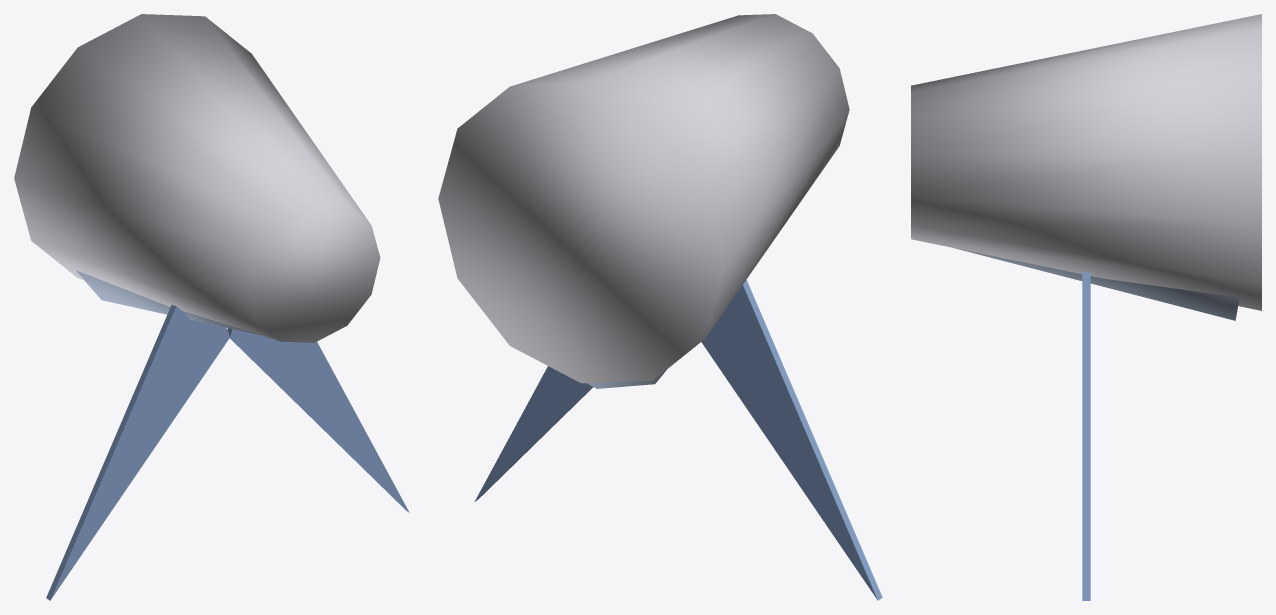
The model's file is wyvern_tail.glb.
3 renders of one model, left to right at view 1: azimuth 30°, elevation 25°; view 2: azimuth 150°, elevation 25°; view 3: azimuth 270°, elevation 25°, orthographic. The views are drawn at different scales.
Parts seen in each view (by area): view 1: wyvern_tail; view 2: wyvern_tail; view 3: wyvern_tail.
Boxes of the visible parts, x1,y1,x2,y2 form: wyvern_tail: [14, 14, 409, 600]; wyvern_tail: [438, 14, 882, 600]; wyvern_tail: [911, 14, 1261, 600].
Bounding box in the file's own units: 1.01 × 1.28 × 0.84.
